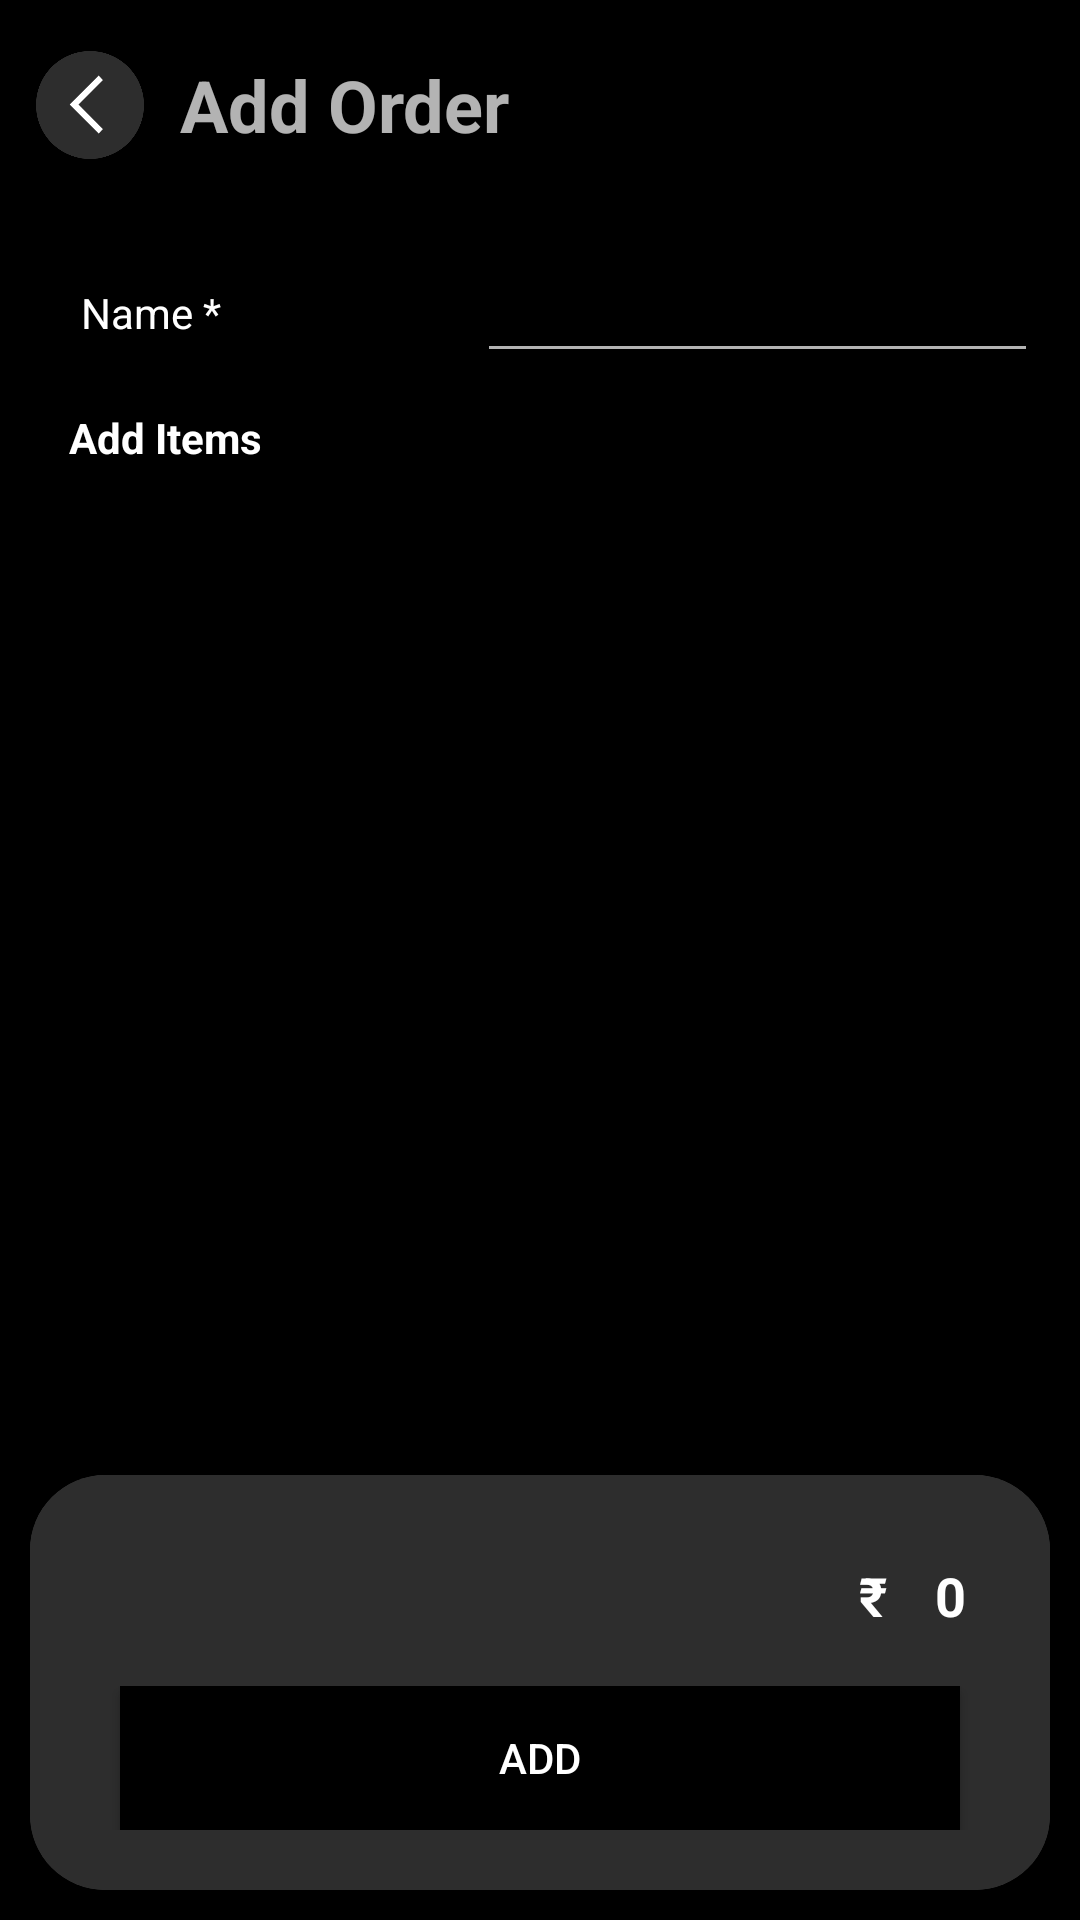

Icon click points for this 1080 x 1920 phone screenshot, format (x,y):
back: (90,105)
